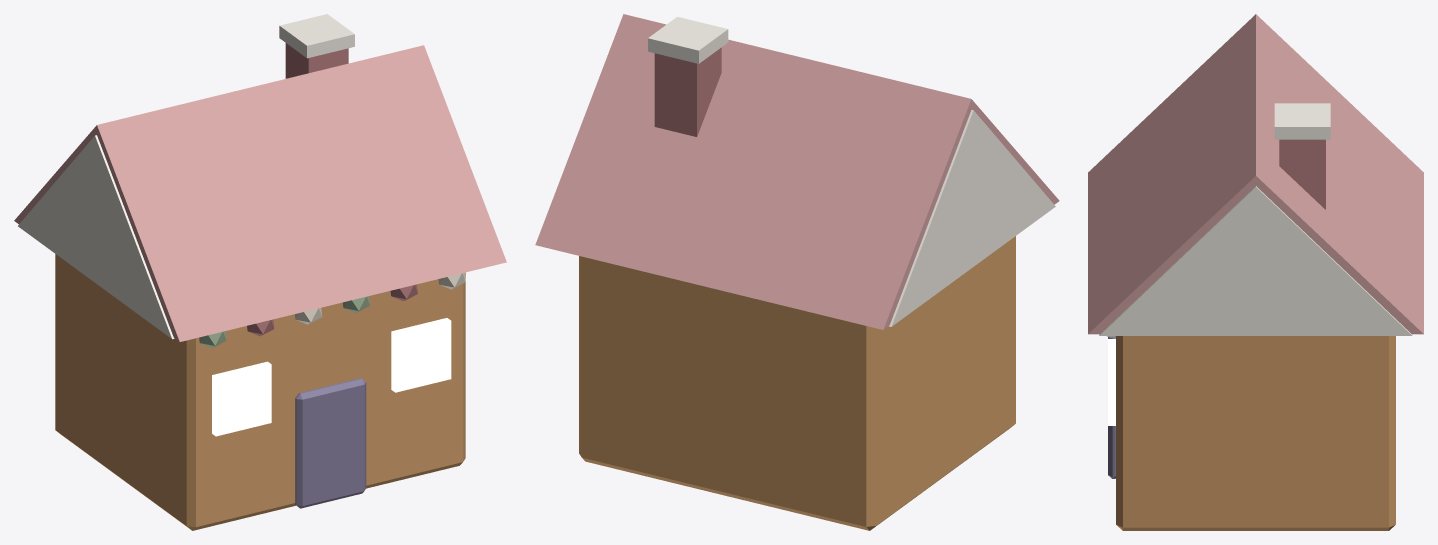
Rendered from sb_gingerbread_house.glb.
3 renders of one model, left to right at view 1: azimuth 30°, elevation 25°; view 2: azimuth 150°, elevation 25°; view 3: azimuth 270°, elevation 25°, orthographic. The views are drawn at different scales.
Parts seen in each view (by area): view 1: gingerbread_house; view 2: gingerbread_house; view 3: gingerbread_house.
Boxes of the visible parts, x1,y1,x2,y2 form: gingerbread_house: (14, 14, 506, 530); gingerbread_house: (535, 14, 1059, 530); gingerbread_house: (1088, 14, 1423, 530).
Size of the model in its own units: 1.66 by 1.84 by 1.44.
